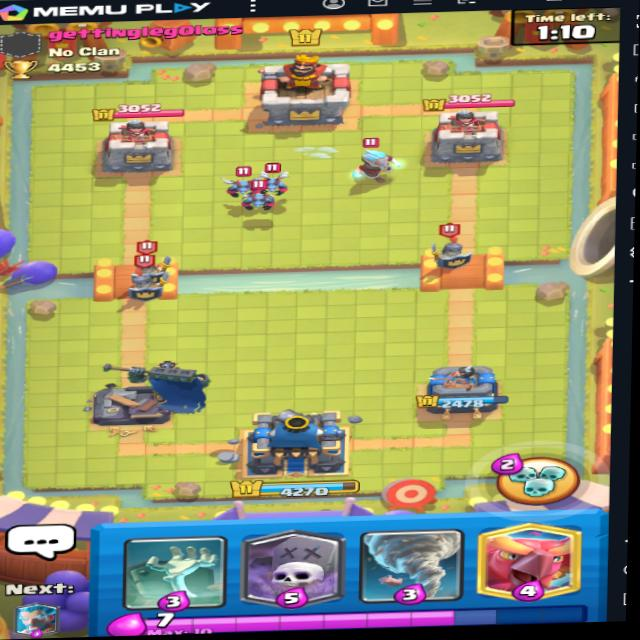guards: (425, 219, 480, 275), (124, 242, 182, 284), (116, 270, 166, 301)
ice-wizard: (339, 133, 416, 188)
minion: (253, 166, 308, 200), (241, 179, 284, 214), (221, 162, 261, 194)
